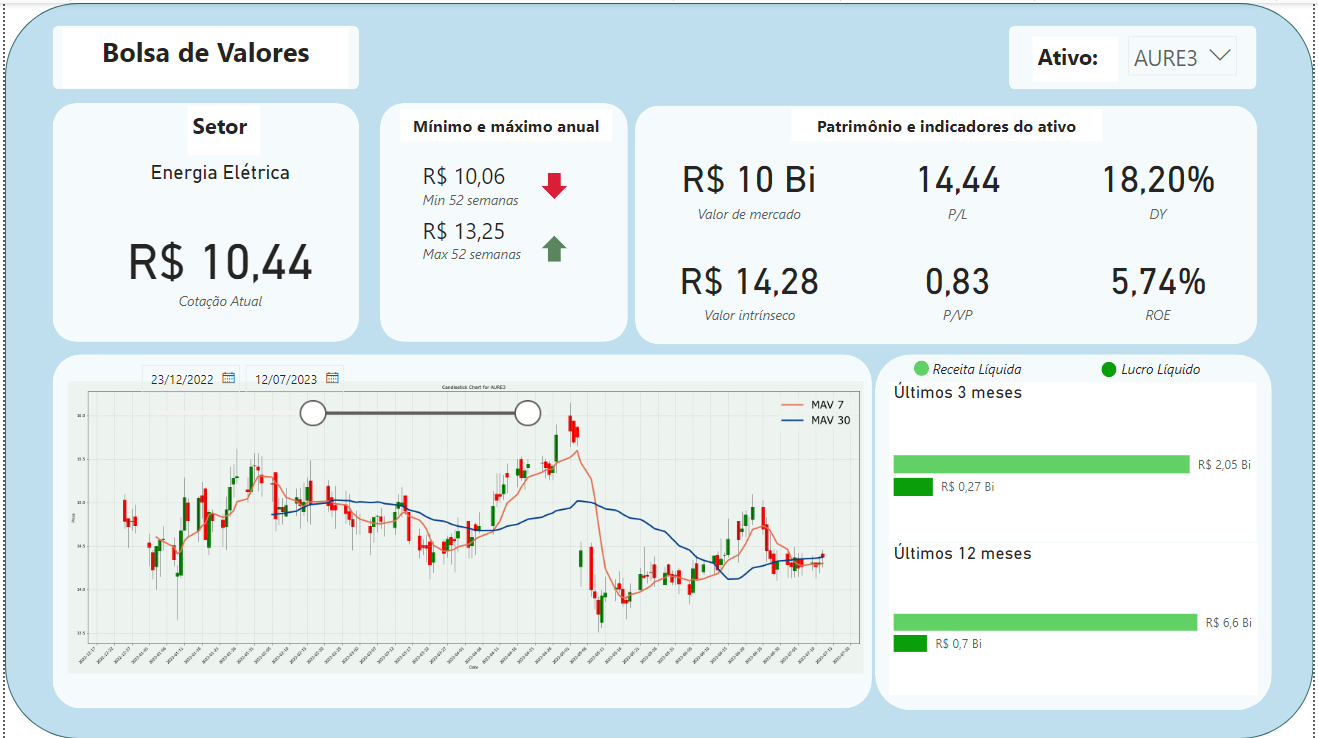

What the dashboard file says about the page in this screenshot:
{"tool":"powerbi","page":{"name":"Análise de Carteira","canvas":[1280,720],"ordinal":0},"visuals":[{"type":"shape","box":[0,0,1280,720],"z":0},{"type":"shape","box":[616.2,100,608.8,233.8],"z":1000},{"type":"shape","box":[46.2,22.5,300,62.5],"z":2000},{"type":"shape","box":[982.5,22.5,242.5,62.5],"z":3000},{"type":"shape","box":[46.2,97.5,300,233.8],"z":4000},{"type":"shape","box":[366.2,97.5,242.5,233.8],"z":5000},{"type":"shape","box":[46.7,343.3,801.7,346.7],"z":6000},{"type":"shape","box":[851.7,343.3,388.3,348.3],"z":7000},{"type":"card","fields":{"Values":["Min(indicadores.Setor)"]},"box":[66.2,134.8,289.3,61.6],"z":8000},{"type":"card","fields":{"Values":["Sum(indicadores.Cotacao)"]},"box":[66.2,196.4,289.3,119.7],"z":9000},{"type":"multiRowCard","fields":{"Values":["indicadores.Min_52_sem","indicadores.Max_52_sem"]},"box":[403.2,148.7,147.6,158],"z":10000},{"type":"card","fields":{"Values":["Sum(indicadores.Valor_de_mercado)"]},"box":[640.2,129,174.3,99.9],"z":11000},{"type":"card","fields":{"Values":["Sum(indicadores.P/L)"]},"box":[844.7,127.8,174.3,99.9],"z":12000},{"type":"card","fields":{"Values":["Sum(indicadores.P/VP)"]},"box":[844.7,227.7,174.3,99.9],"z":13000},{"type":"card","fields":{"Values":["Sum(indicadores.DY)"]},"box":[1041.1,127.8,174.3,99.9],"z":14000},{"type":"card","fields":{"Values":["Sum(indicadores.ROE)"]},"box":[1041.1,227.7,174.3,99.9],"z":15000},{"type":"clusteredBarChart","title":"Últimos 3 meses","fields":{"Y":["Sum(indicadores.Receita_Liquida_3m)","Sum(indicadores.Lucro_Liquido_3m)"]},"box":[864.5,370.7,360.2,156.9],"z":16000},{"type":"clusteredBarChart","title":"Últimos 12 meses","fields":{"Y":["Sum(indicadores.Receita_Liquida_12m)","Sum(indicadores.Lucro_Liquido_12m)"]},"box":[864,528,361,149],"z":17000},{"type":"pythonVisual","fields":{"Values":["cotacoes.Date","cotacoes.Ativo","cotacoes.Open","cotacoes.High","cotacoes.Low","cotacoes.Close"]},"box":[56.6,357.1,788.3,312.3],"z":18000},{"type":"slicer","fields":{"Values":["indicadores.Ativo"]},"box":[1088.7,22.1,126.7,62.7],"z":19000},{"type":"slicer","fields":{"Values":["cotacoes.Date"]},"box":[120.8,343.9,429.9,82.5],"z":20000},{"type":"textbox","box":[902.4,343.5,109.2,27.9],"z":21000},{"type":"textbox","box":[1087.1,343.5,109.2,27.9],"z":22000},{"type":"shape","box":[888.4,349.3,15.1,15.1],"z":23000},{"type":"shape","box":[1072,350.4,15.1,15.1],"z":24000},{"type":"card","fields":{"Values":["Sum(indicadores.Valor_intrinseco)"]},"box":[640.2,227.7,175.5,99.9],"z":25000},{"type":"shape","box":[525.2,166.2,25.6,25.6],"z":26000},{"type":"shape","box":[525.2,227.7,25.6,25.6],"z":27000},{"type":"textbox","box":[178.8,100,71.2,48.8],"z":28000},{"type":"textbox","box":[386.2,103.8,207.5,31.2],"z":29000},{"type":"textbox","box":[768.8,103.8,303.8,31.2],"z":30000},{"type":"textbox","box":[1005,32.5,83.8,43.8],"z":31000},{"type":"textbox","box":[56.2,25,280,58.8],"z":32000}]}

Visuals, with their boxes in screenshot pixels (x1, y1, x2, y2), scaled from the page's 1280x720 canvas onto the 1318x738 screenshot:
shape: {"left": 0, "top": 0, "right": 1317, "bottom": 737}
shape: {"left": 634, "top": 102, "right": 1261, "bottom": 342}
shape: {"left": 48, "top": 23, "right": 356, "bottom": 87}
shape: {"left": 1012, "top": 23, "right": 1261, "bottom": 87}
shape: {"left": 48, "top": 100, "right": 356, "bottom": 340}
shape: {"left": 377, "top": 100, "right": 627, "bottom": 340}
shape: {"left": 48, "top": 352, "right": 874, "bottom": 707}
shape: {"left": 877, "top": 352, "right": 1277, "bottom": 709}
card - Min(indicadores.Setor): {"left": 68, "top": 138, "right": 366, "bottom": 201}
card - Sum(indicadores.Cotacao): {"left": 68, "top": 201, "right": 366, "bottom": 324}
multiRowCard - indicadores.Min_52_sem x indicadores.Max_52_sem: {"left": 415, "top": 152, "right": 567, "bottom": 314}
card - Sum(indicadores.Valor_de_mercado): {"left": 659, "top": 132, "right": 839, "bottom": 235}
card - Sum(indicadores.P/L): {"left": 870, "top": 131, "right": 1049, "bottom": 233}
card - Sum(indicadores.P/VP): {"left": 870, "top": 233, "right": 1049, "bottom": 336}
card - Sum(indicadores.DY): {"left": 1072, "top": 131, "right": 1251, "bottom": 233}
card - Sum(indicadores.ROE): {"left": 1072, "top": 233, "right": 1251, "bottom": 336}
"Últimos 3 meses" clusteredBarChart: {"left": 890, "top": 380, "right": 1261, "bottom": 541}
"Últimos 12 meses" clusteredBarChart: {"left": 890, "top": 541, "right": 1261, "bottom": 694}
pythonVisual - cotacoes.Date x cotacoes.Ativo: {"left": 58, "top": 366, "right": 870, "bottom": 686}
slicer - indicadores.Ativo: {"left": 1121, "top": 23, "right": 1251, "bottom": 87}
slicer - cotacoes.Date: {"left": 124, "top": 352, "right": 567, "bottom": 437}
textbox: {"left": 929, "top": 352, "right": 1042, "bottom": 381}
textbox: {"left": 1119, "top": 352, "right": 1232, "bottom": 381}
shape: {"left": 915, "top": 358, "right": 930, "bottom": 374}
shape: {"left": 1104, "top": 359, "right": 1119, "bottom": 375}
card - Sum(indicadores.Valor_intrinseco): {"left": 659, "top": 233, "right": 840, "bottom": 336}
shape: {"left": 541, "top": 170, "right": 567, "bottom": 197}
shape: {"left": 541, "top": 233, "right": 567, "bottom": 260}
textbox: {"left": 184, "top": 102, "right": 257, "bottom": 153}
textbox: {"left": 398, "top": 106, "right": 611, "bottom": 138}
textbox: {"left": 792, "top": 106, "right": 1104, "bottom": 138}
textbox: {"left": 1035, "top": 33, "right": 1121, "bottom": 78}
textbox: {"left": 58, "top": 26, "right": 346, "bottom": 86}
